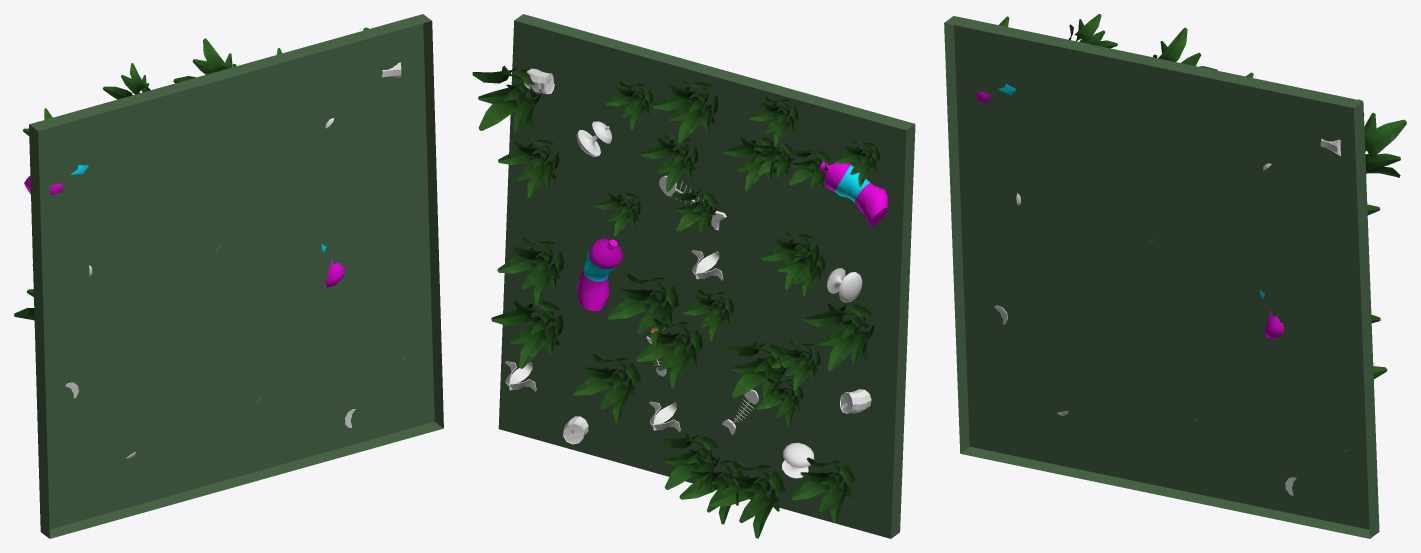
The model's file is celdapocha.fbx.
3 views of the same model, side by side, from view 1: azimuth 30°, elevation 25°; view 2: azimuth 150°, elevation 25°; view 3: azimuth 330°, elevation 25° (orthographic). The views are drawn at different scales.
Parts seen in each view (by area): view 1: Terrain .001; view 2: Terrain .001; view 3: Terrain .001.
Part boxes in pixels (left/top/right/bottom): Terrain .001: left=14, top=14, right=443, bottom=538; Terrain .001: left=472, top=14, right=915, bottom=538; Terrain .001: left=944, top=14, right=1406, bottom=538.
Bounding box in the file's own units: 20809 × 21284 × 3325.
